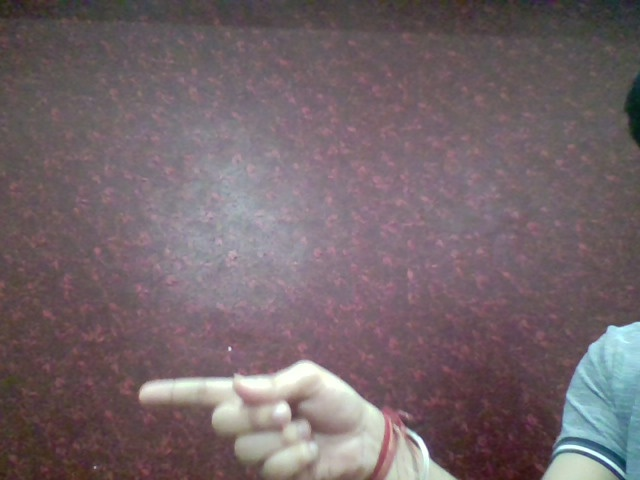g: (129, 350, 367, 480)
